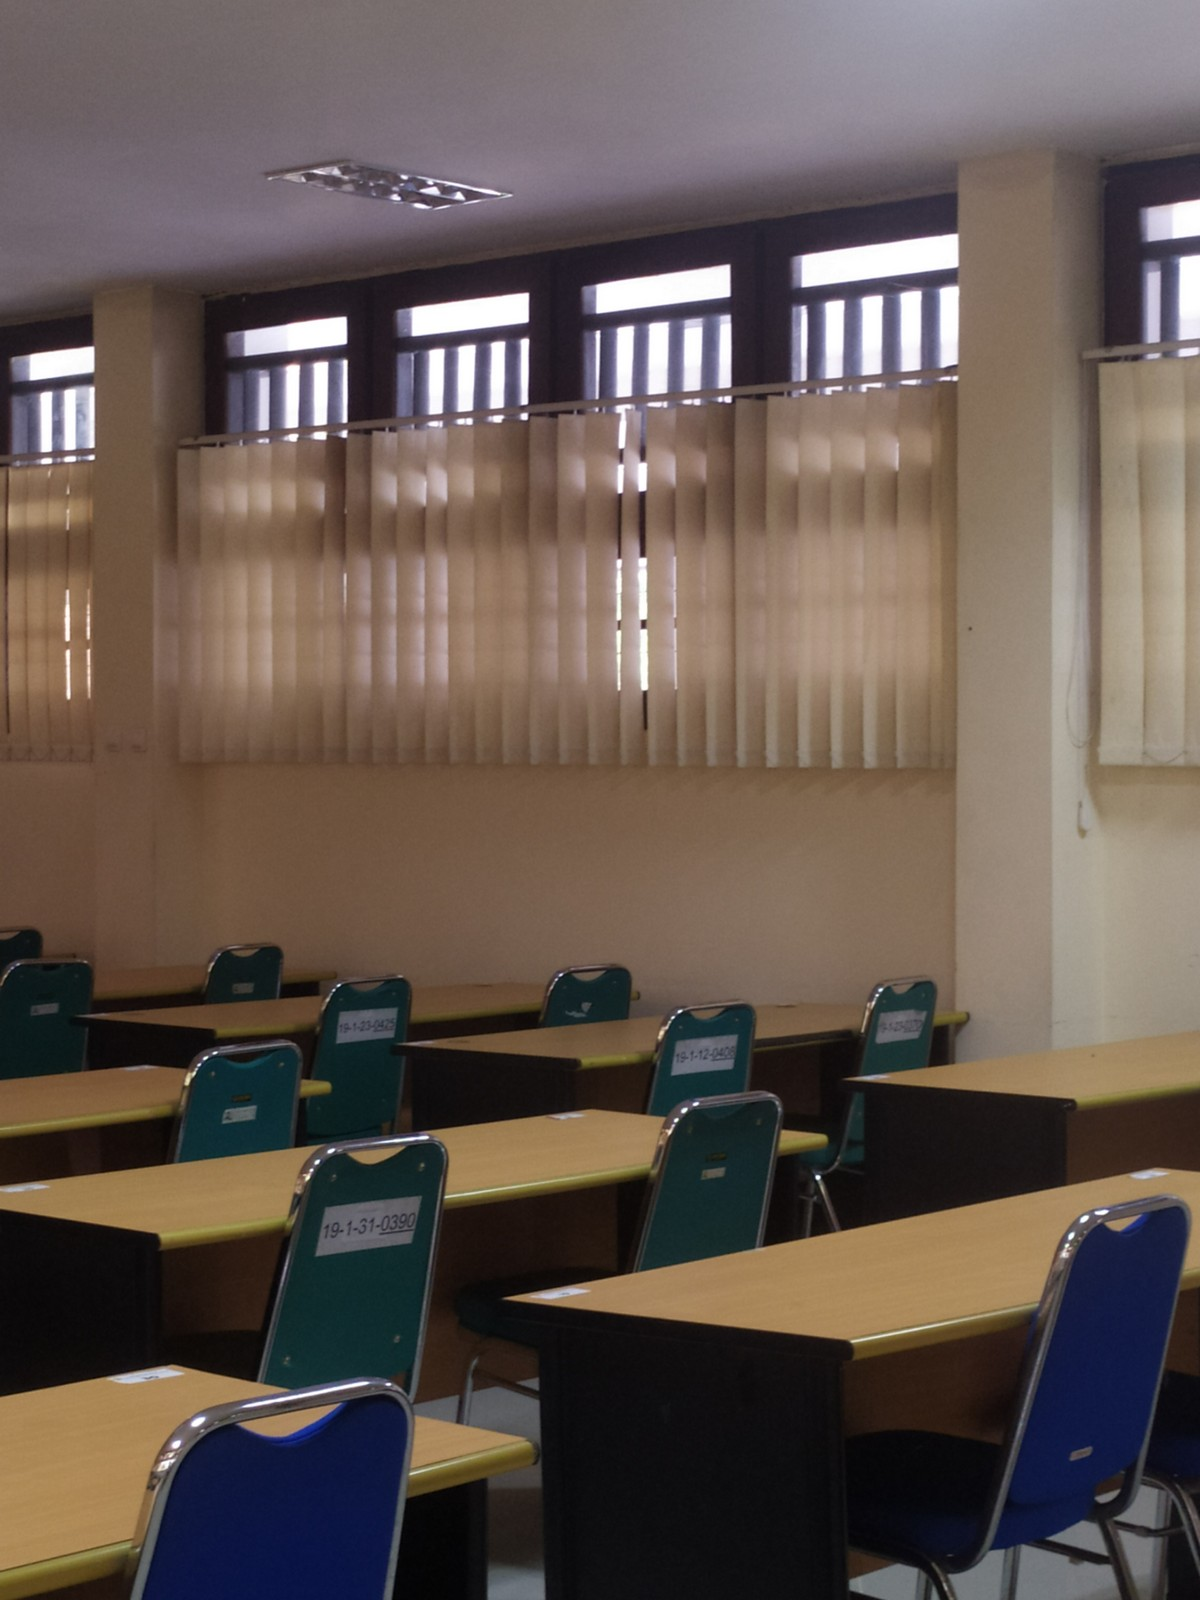concrete column: (937, 139, 1121, 1058), (86, 277, 221, 974)
